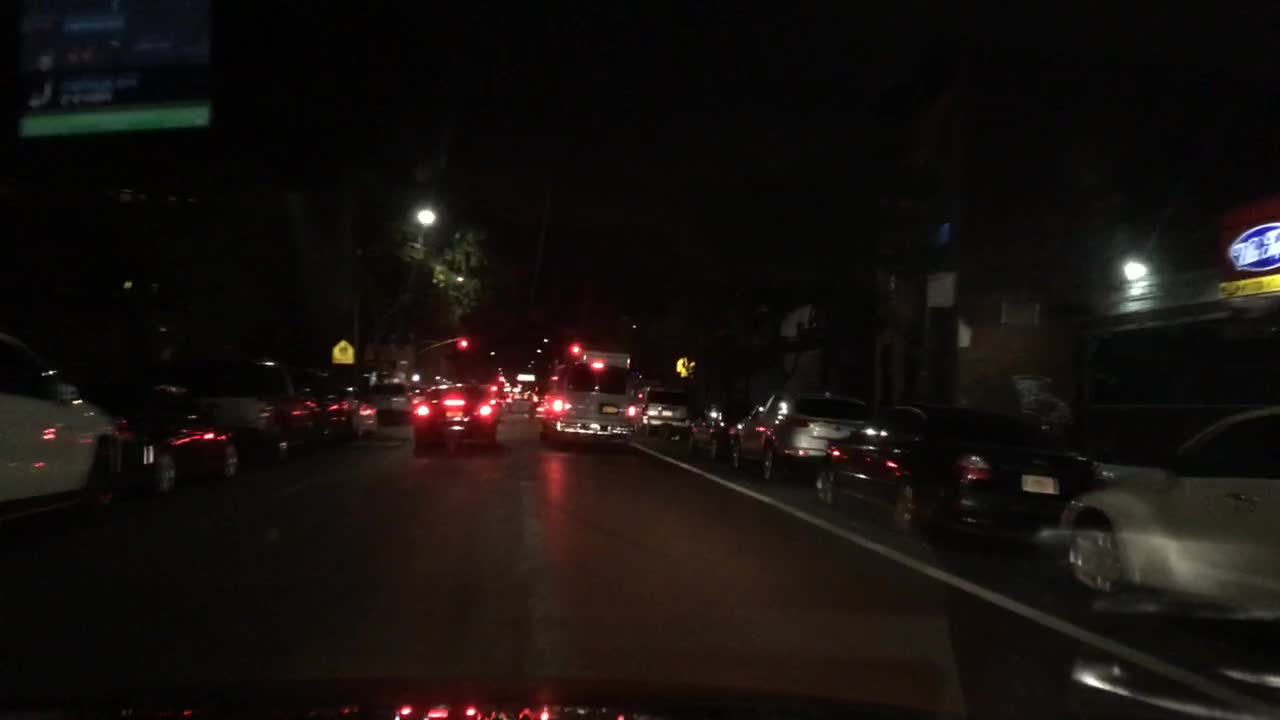car: (1037, 406, 1278, 630), (815, 402, 1097, 551), (1, 332, 117, 500), (117, 374, 236, 492), (730, 393, 884, 479), (539, 350, 632, 449), (238, 358, 314, 454), (409, 380, 498, 449), (631, 385, 689, 439), (313, 365, 349, 442), (688, 393, 730, 456), (372, 373, 411, 422), (349, 386, 379, 439), (525, 379, 548, 418), (495, 375, 512, 410), (512, 382, 522, 399)
traffic light: (566, 342, 584, 357), (459, 335, 468, 349)
traffic sign: (926, 273, 953, 307), (332, 340, 355, 361), (675, 358, 695, 375)
